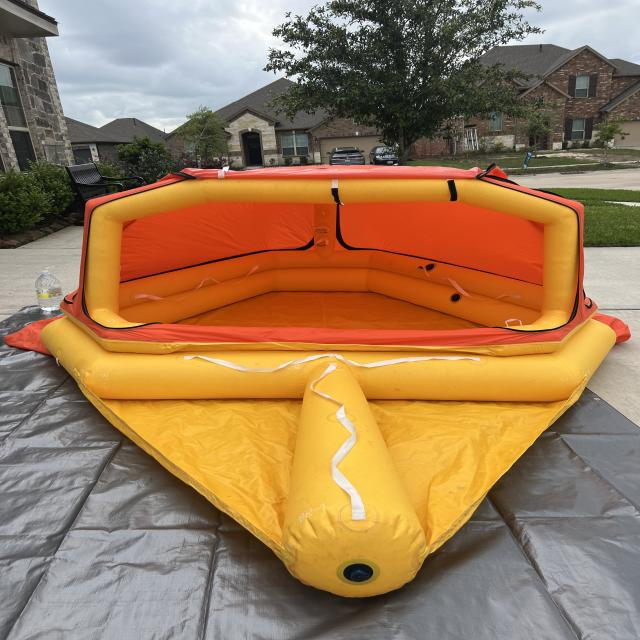Multi-person_life_raft: (4, 168, 632, 600)
